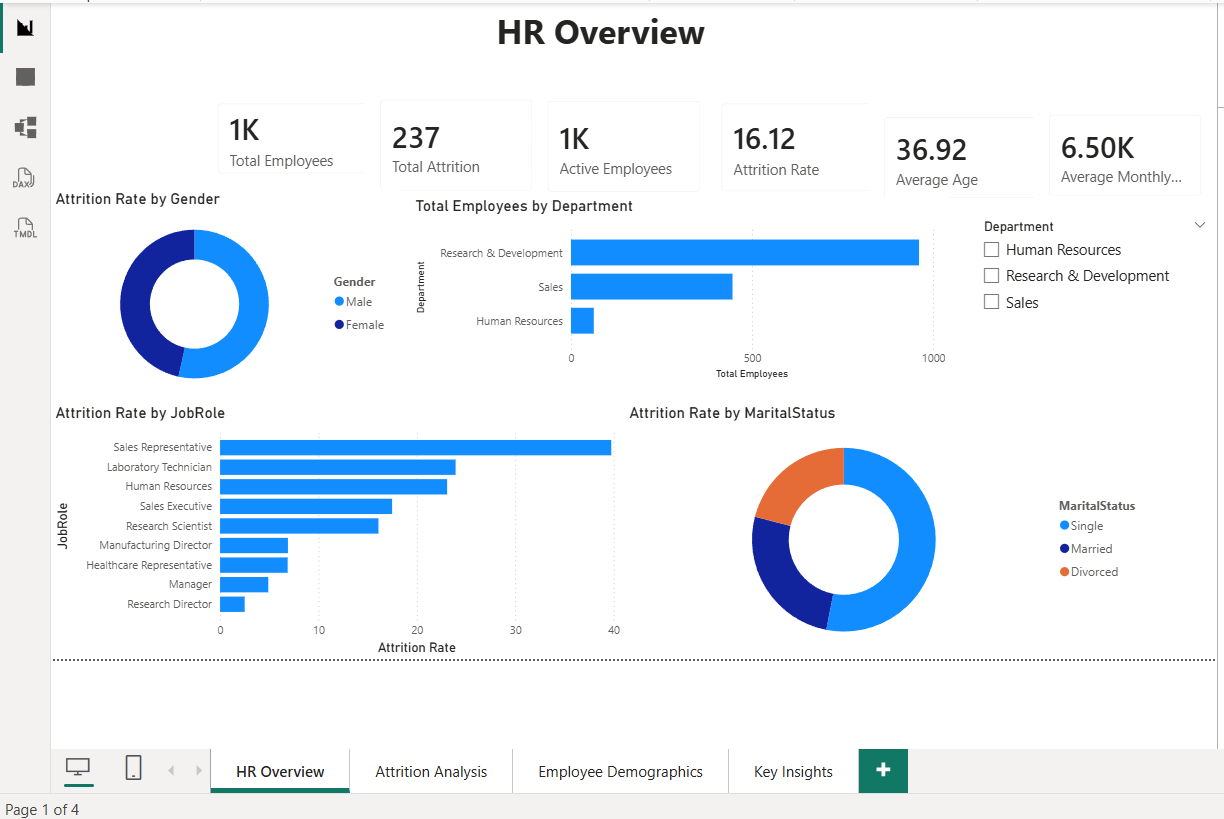

What the dashboard file says about the page in this screenshot:
{"tool":"powerbi","page":{"name":"HR Overview","canvas":[1280,720],"ordinal":0},"visuals":[{"type":"cardVisual","fields":{"Data":["HR-Employee-Attrition.Total Employees"]},"box":[166,93.3,201.7,111.1],"z":0},{"type":"cardVisual","fields":{"Data":["HR-Employee-Attrition.Total Attrition"]},"box":[344.4,89.2,201.7,134.5],"z":1000},{"type":"cardVisual","fields":{"Data":["HR-Employee-Attrition.Active Employees"]},"box":[528.3,90.6,201.7,134.5],"z":2000},{"type":"cardVisual","fields":{"Data":["HR-Employee-Attrition.Attrition Rate"]},"box":[719,93.3,201.7,130.4],"z":3000},{"type":"cardVisual","fields":{"Data":["HR-Employee-Attrition.Average Age"]},"box":[897.4,108.4,201.7,123.5],"z":4000},{"type":"cardVisual","fields":{"Data":["HR-Employee-Attrition.Average Monthly Income"]},"box":[1078.6,105.7,201.7,123.5],"z":5000},{"type":"donutChart","fields":{"Y":["HR-Employee-Attrition.Attrition Rate"],"Category":["HR-Employee-Attrition.Gender"]},"box":[0,204.5,381.5,233.3],"z":6000},{"type":"barChart","fields":{"Y":["HR-Employee-Attrition.Total Employees"],"Category":["HR-Employee-Attrition.Department"]},"box":[395.2,212.7,591.4,205.8],"z":7000},{"type":"barChart","fields":{"Category":["HR-Employee-Attrition.JobRole"],"Y":["HR-Employee-Attrition.Attrition Rate"]},"box":[0,439.1,629.8,281.3],"z":8000},{"type":"donutChart","fields":{"Y":["HR-Employee-Attrition.Attrition Rate"],"Category":["HR-Employee-Attrition.MaritalStatus"]},"box":[629.8,439.1,580.4,281.3],"z":9000},{"type":"slicer","fields":{"Values":["HR-Employee-Attrition.Department"]},"box":[1011.3,231.9,269,253.9],"z":10000},{"type":"textbox","box":[0,0,1280.3,101.5],"z":11000}]}

Visuals, with their boxes on the page's 1280x720 design canvas (x1, y1, x2, y2). These are canvas units, not pixel positions in the 1224x819 screenshot, which may show the page scaled, cropped or inside an application window:
cardVisual - HR-Employee-Attrition.Total Employees: [left=166, top=93, right=368, bottom=204]
cardVisual - HR-Employee-Attrition.Total Attrition: [left=344, top=89, right=546, bottom=224]
cardVisual - HR-Employee-Attrition.Active Employees: [left=528, top=91, right=730, bottom=225]
cardVisual - HR-Employee-Attrition.Attrition Rate: [left=719, top=93, right=921, bottom=224]
cardVisual - HR-Employee-Attrition.Average Age: [left=897, top=108, right=1099, bottom=232]
cardVisual - HR-Employee-Attrition.Average Monthly Income: [left=1079, top=106, right=1280, bottom=229]
donutChart - HR-Employee-Attrition.Attrition Rate x HR-Employee-Attrition.Gender: [left=0, top=204, right=382, bottom=438]
barChart - HR-Employee-Attrition.Total Employees x HR-Employee-Attrition.Department: [left=395, top=213, right=987, bottom=418]
barChart - HR-Employee-Attrition.JobRole x HR-Employee-Attrition.Attrition Rate: [left=0, top=439, right=630, bottom=720]
donutChart - HR-Employee-Attrition.Attrition Rate x HR-Employee-Attrition.MaritalStatus: [left=630, top=439, right=1210, bottom=720]
slicer - HR-Employee-Attrition.Department: [left=1011, top=232, right=1280, bottom=486]
textbox: [left=0, top=0, right=1280, bottom=102]
